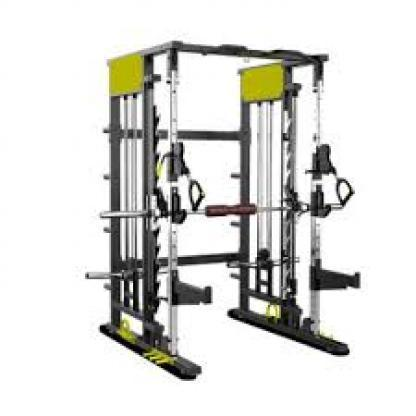smith machine: (86, 39, 362, 384)
